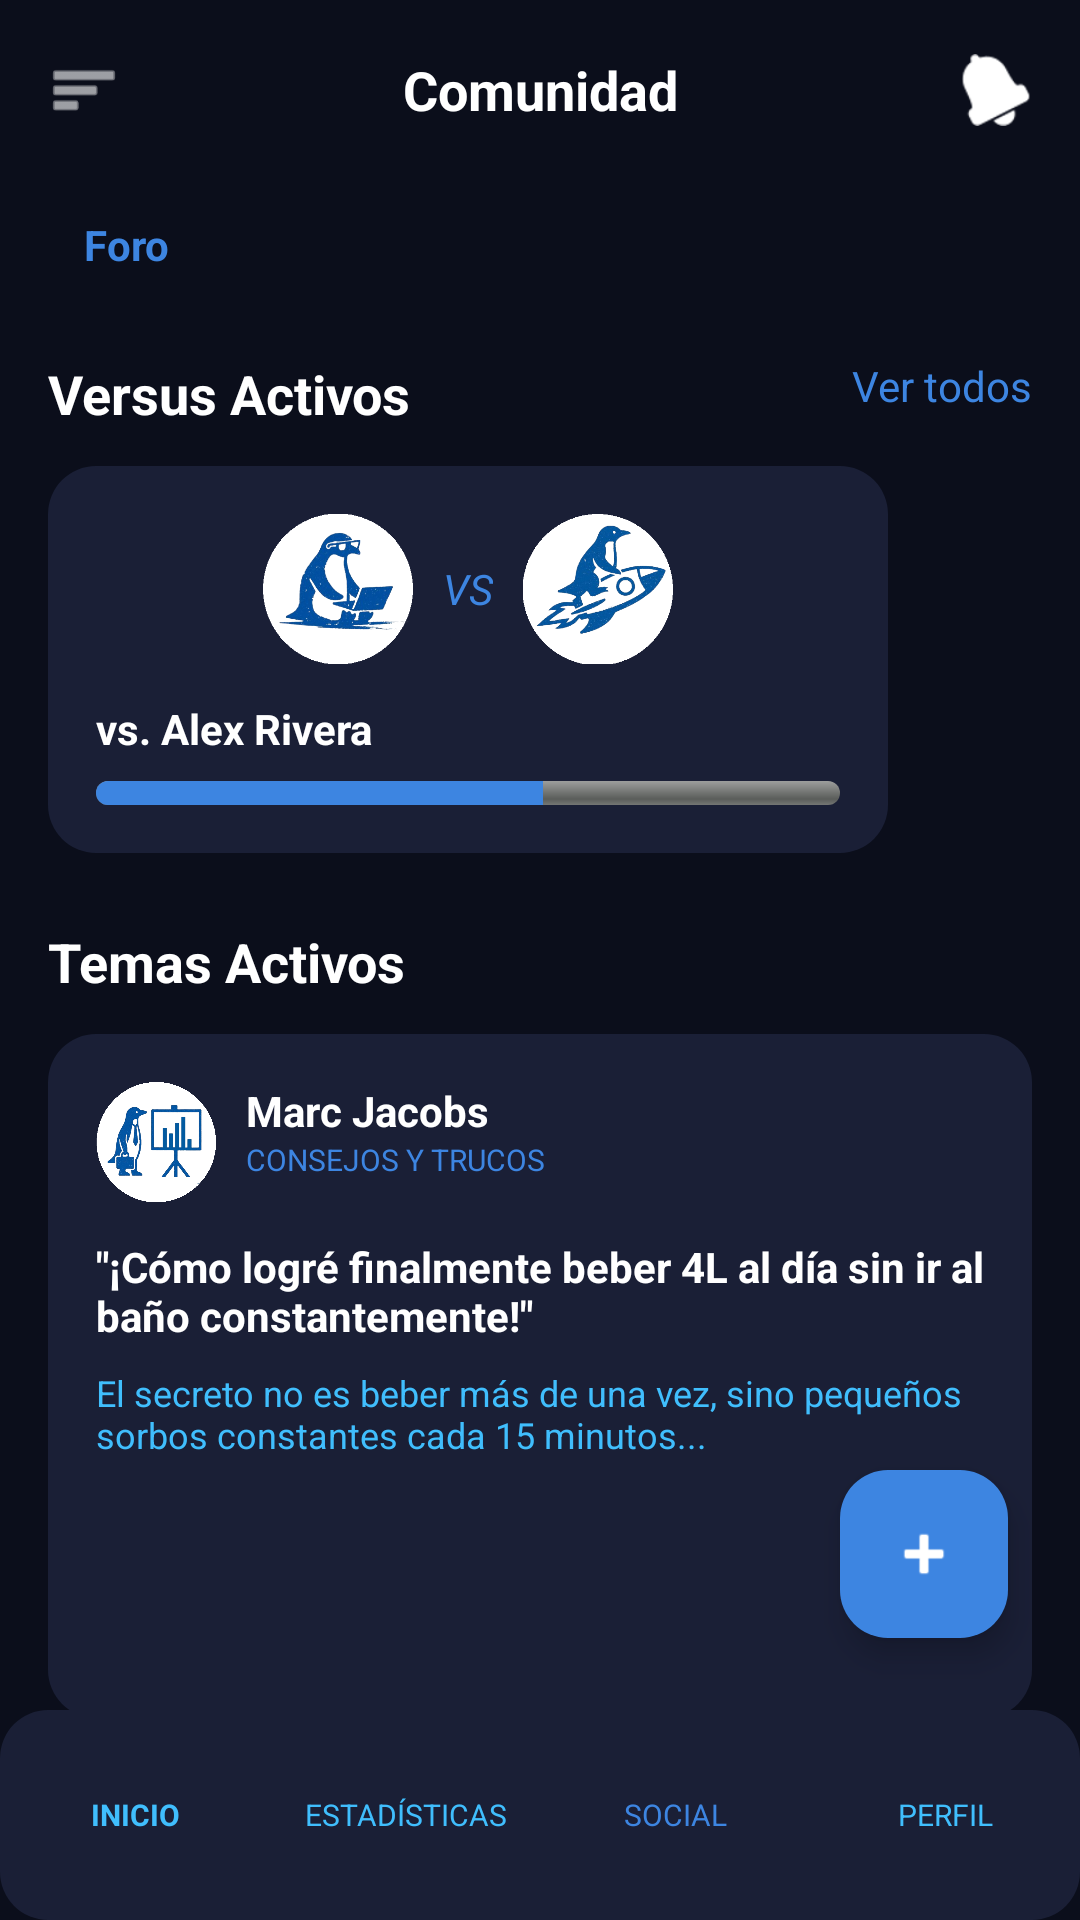

Locate icon controls on the screen. Image size 1080×1920, boxes as BBox(x1, y1, x2, y2).
Crear nueva publicación: BBox(840, 1470, 1008, 1638)
popup reminder: BBox(962, 54, 1030, 126)
sort by size: BBox(53, 70, 115, 111)
